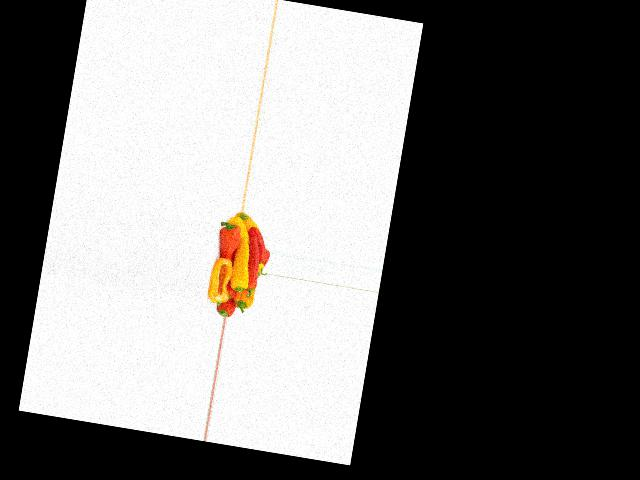bell_pepper: (216, 286, 241, 319)
